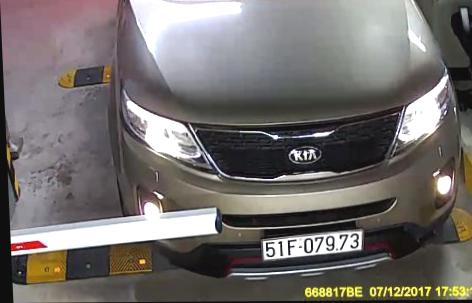License_Plate: (257, 230, 369, 261)
